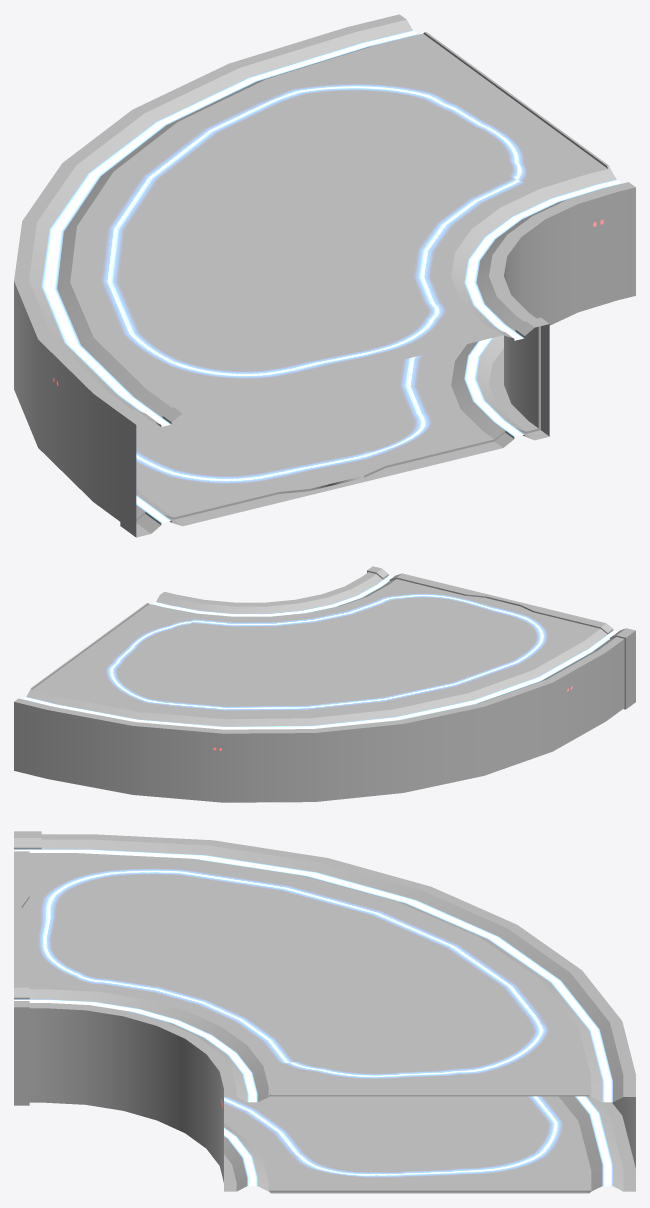
File: TurnRight-2S_NoCaps.fbx
3 renders of one model, top to bottom at view 1: azimuth 30°, elevation 25°; view 2: azimuth 150°, elevation 25°; view 3: azimuth 270°, elevation 25°, orthographic. The views are drawn at different scales.
Visible parts, largest first — view 1: TurnRight-2S_NoCaps; view 2: TurnRight-2S_NoCaps; view 3: TurnRight-2S_NoCaps.
Part boxes in pixels (x1=…): TurnRight-2S_NoCaps: x1=14, y1=14, x2=635, y2=537; TurnRight-2S_NoCaps: x1=14, y1=566, x2=635, y2=802; TurnRight-2S_NoCaps: x1=14, y1=831, x2=635, y2=1193.
Bounding box in the file's own units: 3.75 × 0.6517 × 3.74.
